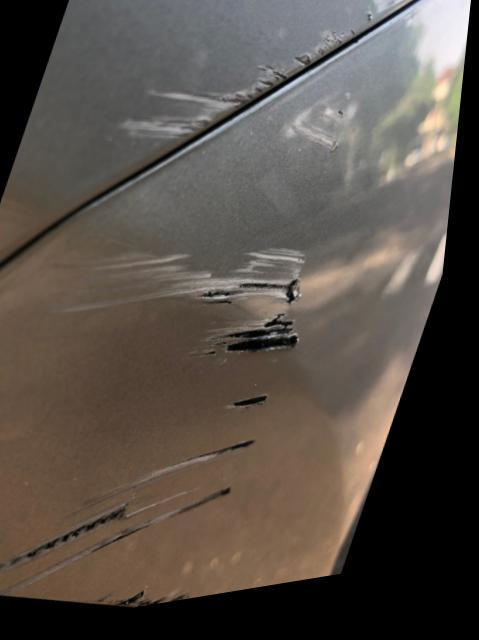scratch: (0, 245, 326, 614), (118, 20, 373, 151)
